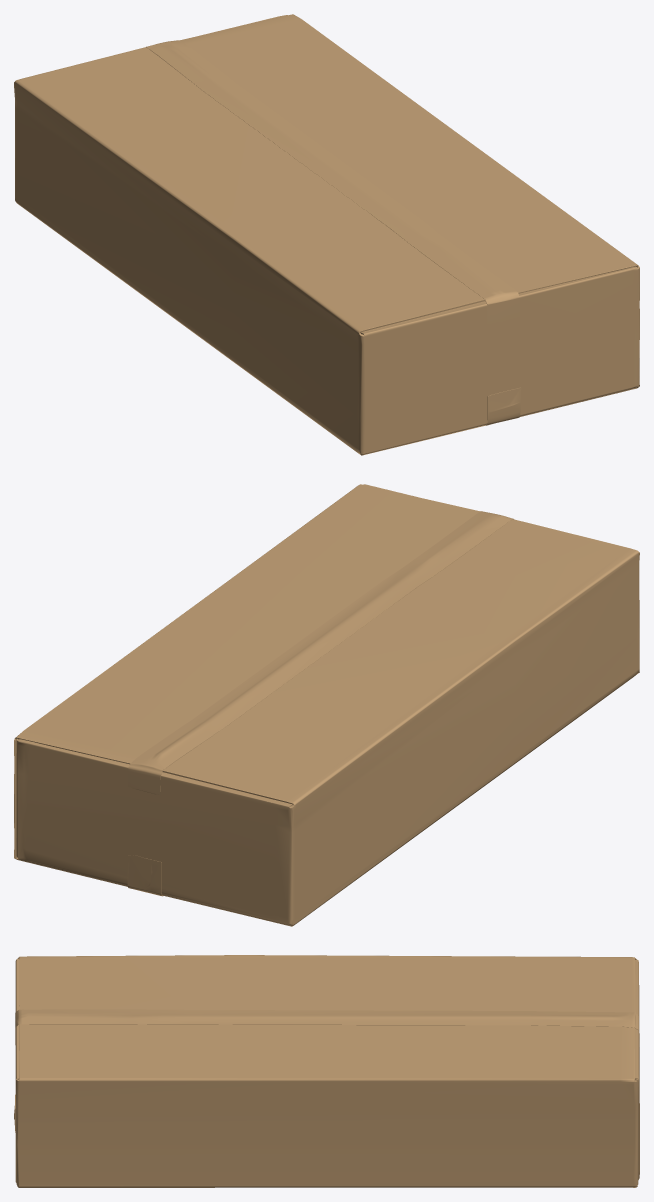
File: box_flat_brown_b10.glb
The picture shows the model from 3 angles, top to bottom: view 1: azimuth 30°, elevation 25°; view 2: azimuth 150°, elevation 25°; view 3: azimuth 270°, elevation 25°; orthographic projection. The views are drawn at different scales.
Size of the model in its own units: 0.261 by 0.1137 by 0.5625.
